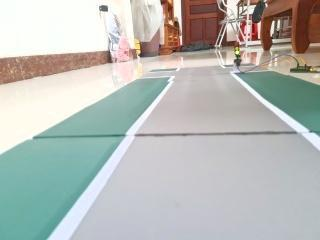green: (230, 36, 246, 65)
